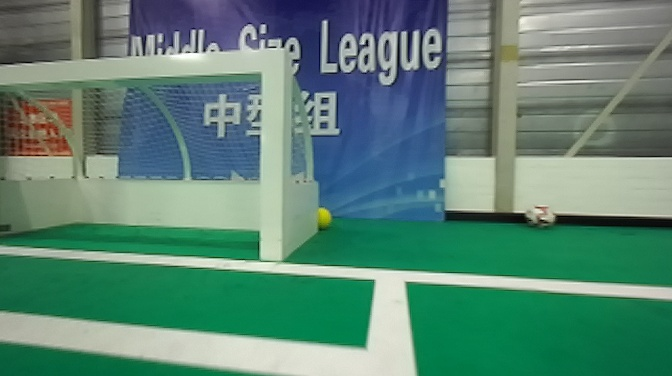ball: (523, 201, 560, 233), (313, 205, 335, 232)
goalpost: (249, 43, 295, 271)
